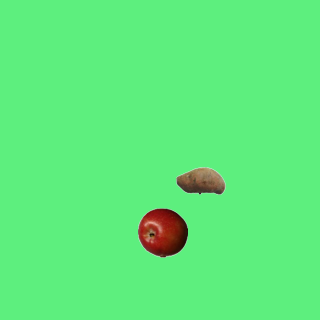Apple Braeburn: (137, 207, 187, 257)
Potato Sweet: (175, 155, 225, 205)
